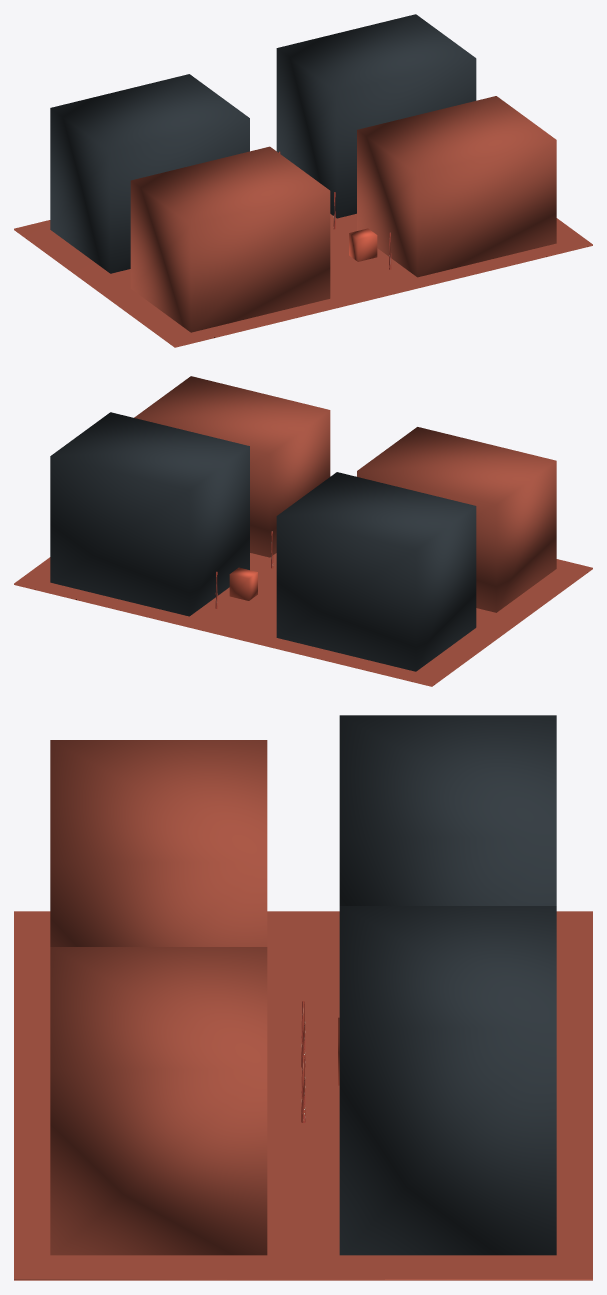
3 views of the same model, one above another, from view 1: azimuth 30°, elevation 25°; view 2: azimuth 150°, elevation 25°; view 3: azimuth 270°, elevation 25° (orthographic). The views are drawn at different scales.
Parts seen in each view (by area): view 1: facades_simplified, street_simplified; view 2: facades_simplified, street_simplified; view 3: facades_simplified, street_simplified.
Part boxes in pixels (x1,y1,x2,y2): facades_simplified: (50, 14, 556, 332); street_simplified: (14, 213, 592, 347); facades_simplified: (50, 376, 556, 671); street_simplified: (14, 553, 592, 686); facades_simplified: (50, 715, 556, 1255); street_simplified: (14, 911, 592, 1280).
Bounding box in the file's own units: 48 × 14 × 32.
2 materials, 2 textured.
